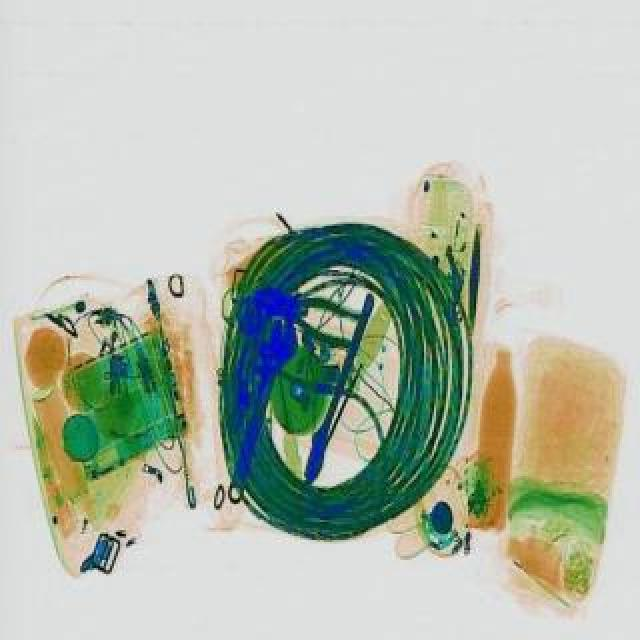scissors: (212, 312, 304, 508), (298, 290, 382, 482)
